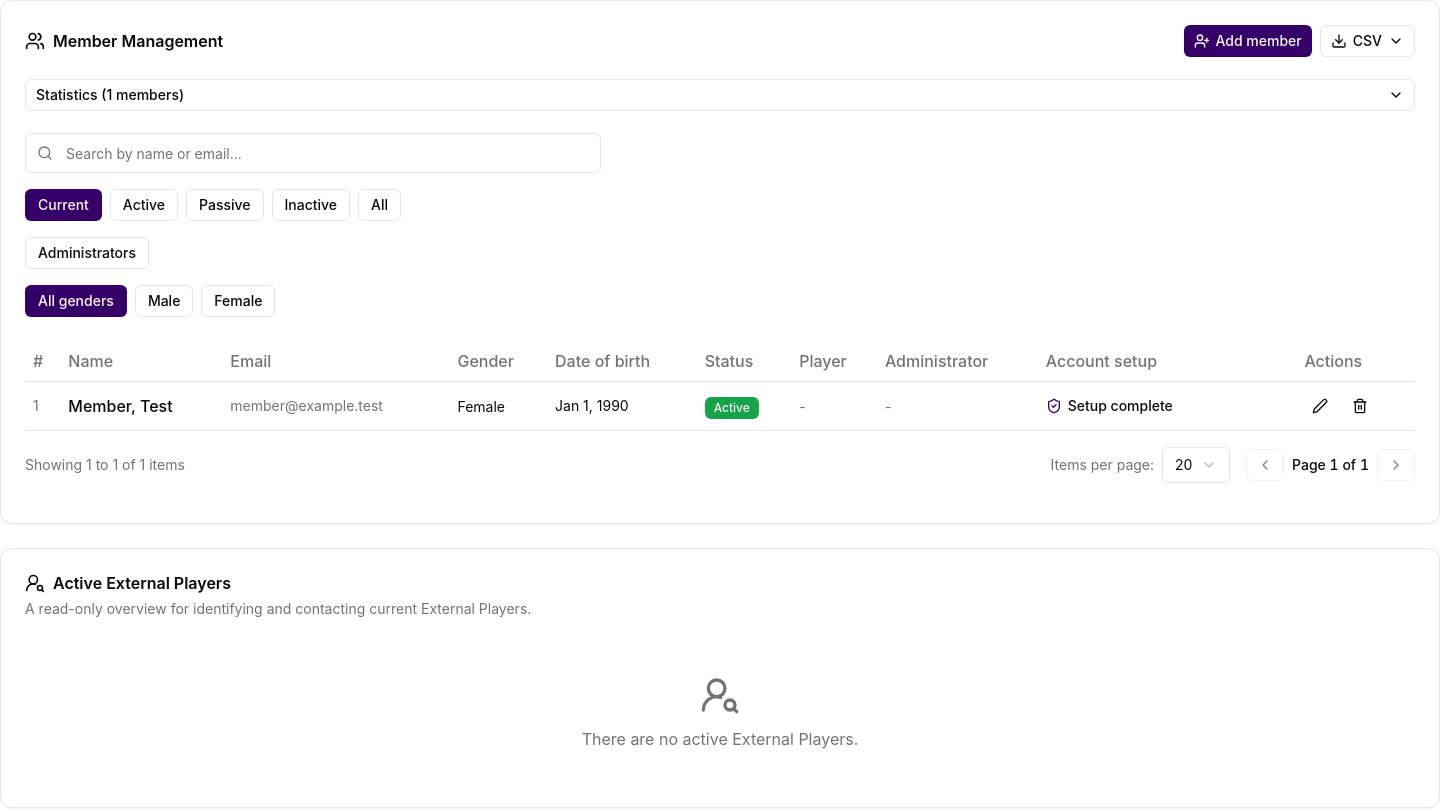
Test case: MemberCenter member projection › keeps the Membership reason after a failed transition
Click the button named "Edit Member, Test": point(1320, 406) [1304, 390, 1336, 422]
(page scrolled)
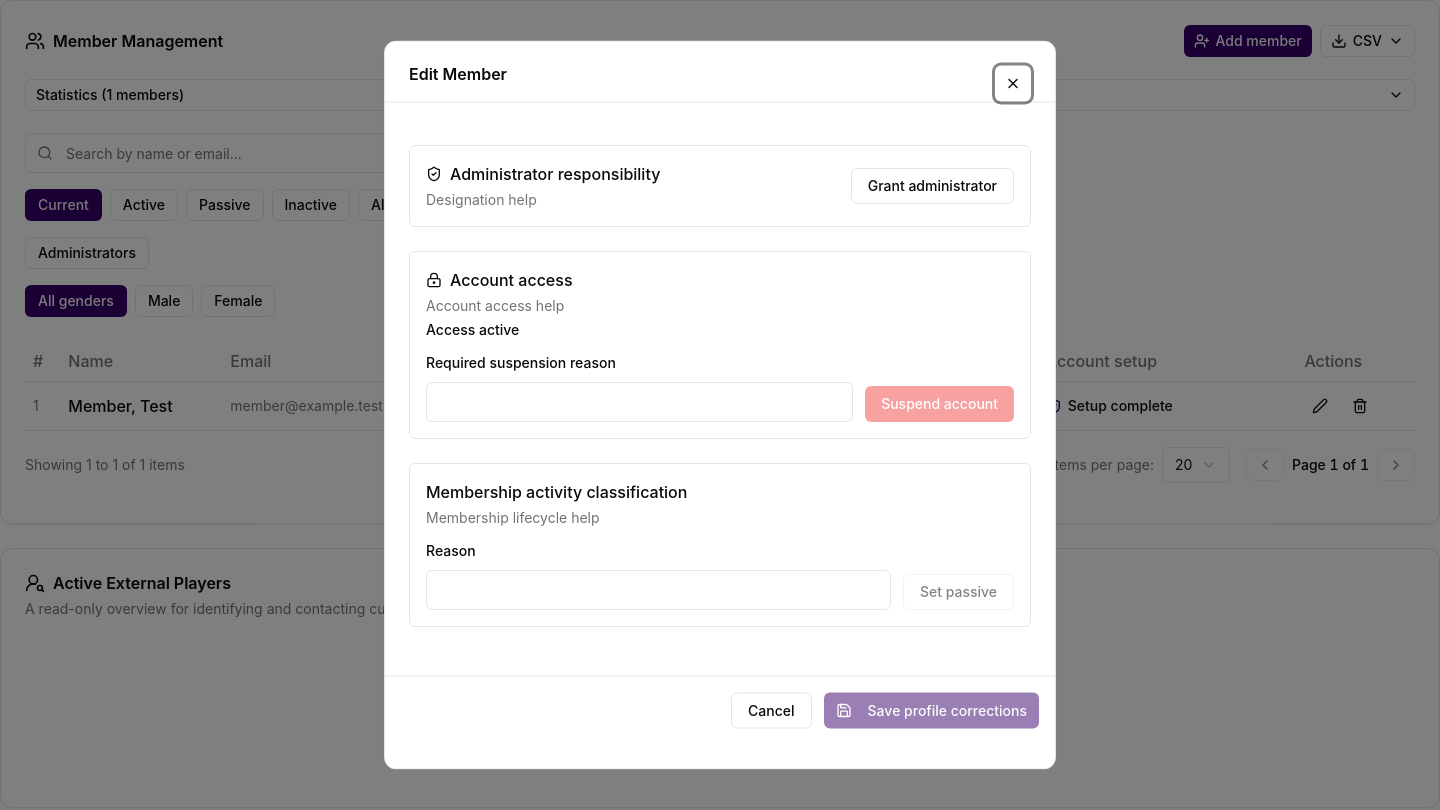
In the field labelled "Reason": point(658, 590) [426, 570, 891, 610], type "Annual classification"
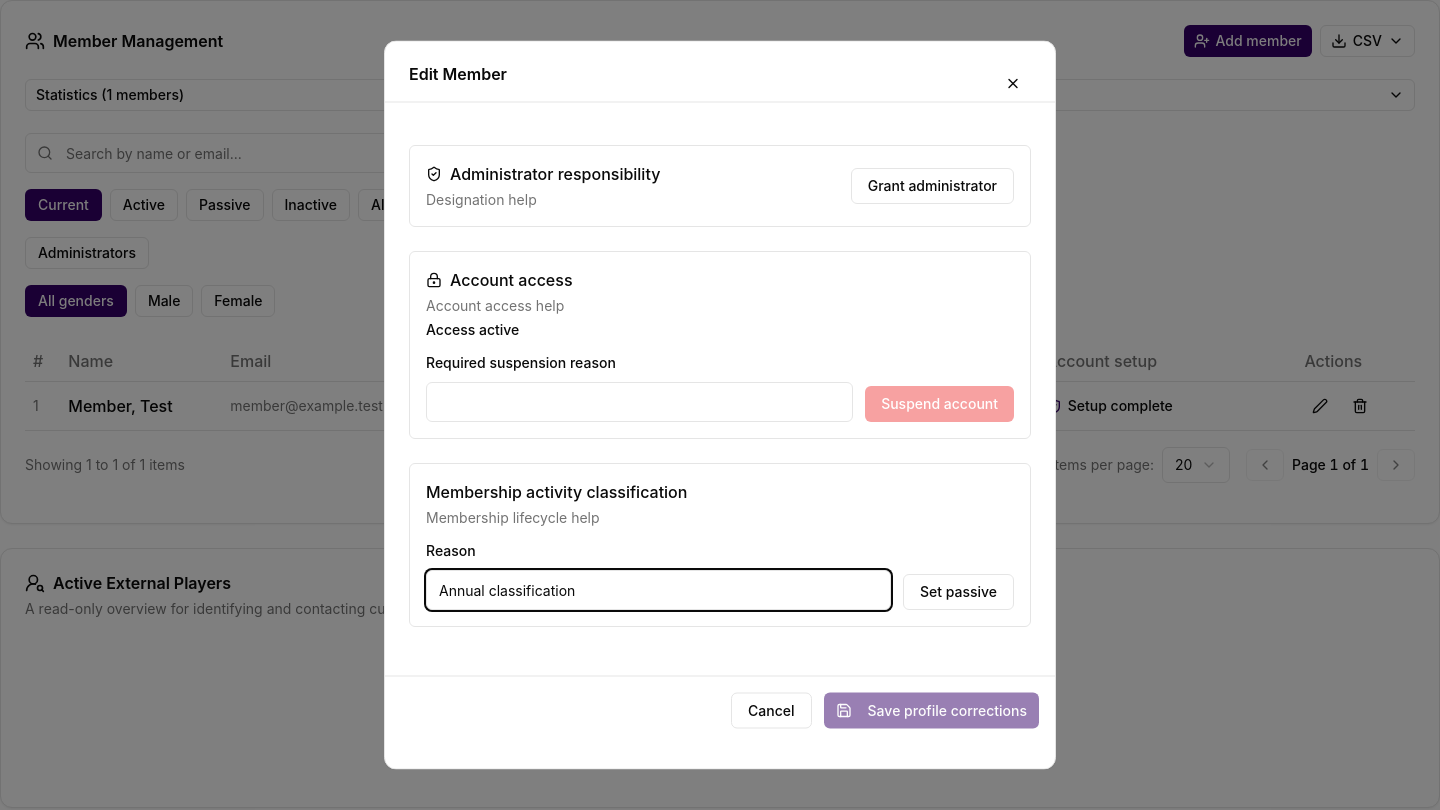
Click the button "Set passive": point(958, 592) [903, 574, 1014, 610]
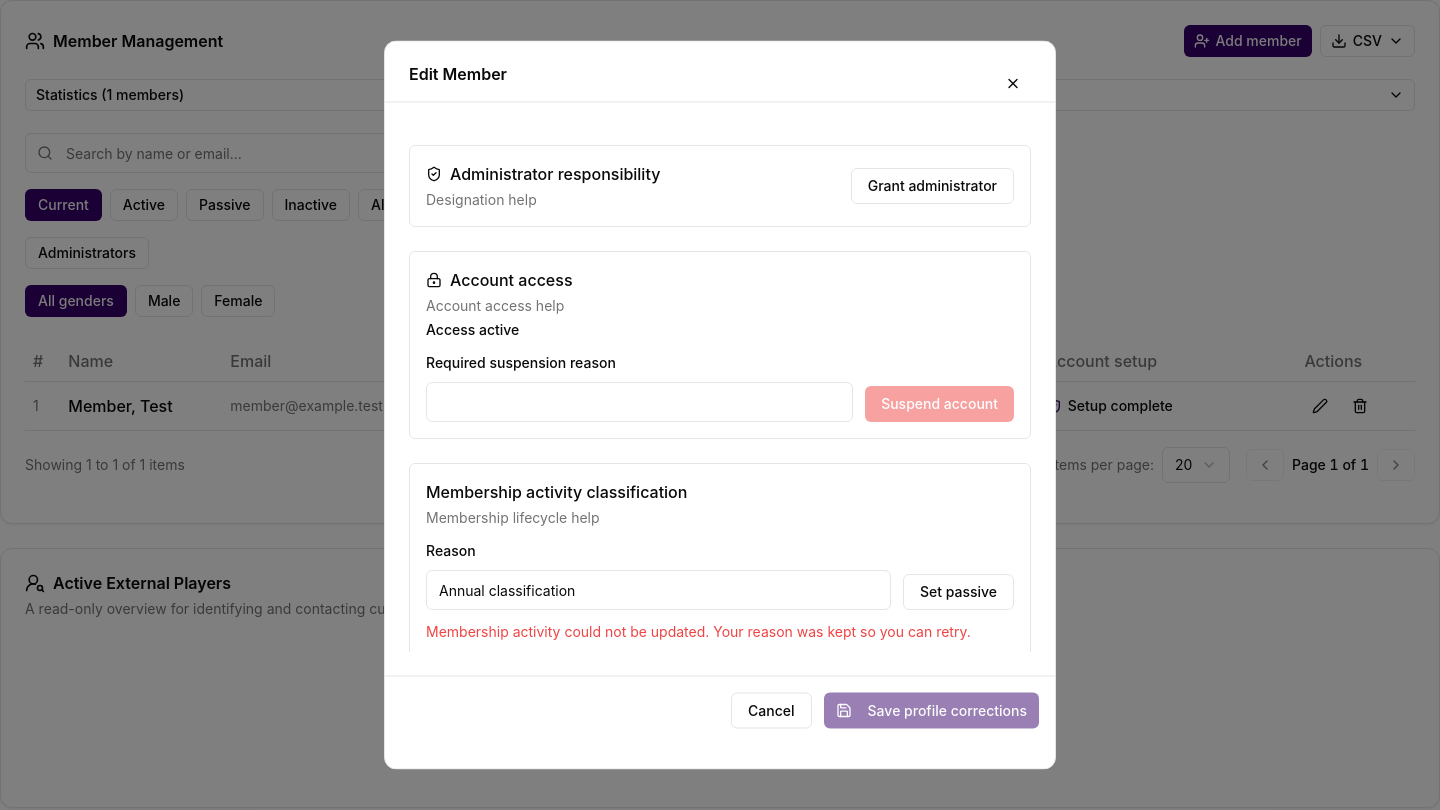
Expected: the text "Membership activity could not be updated" is shown, [426, 624, 971, 640]
